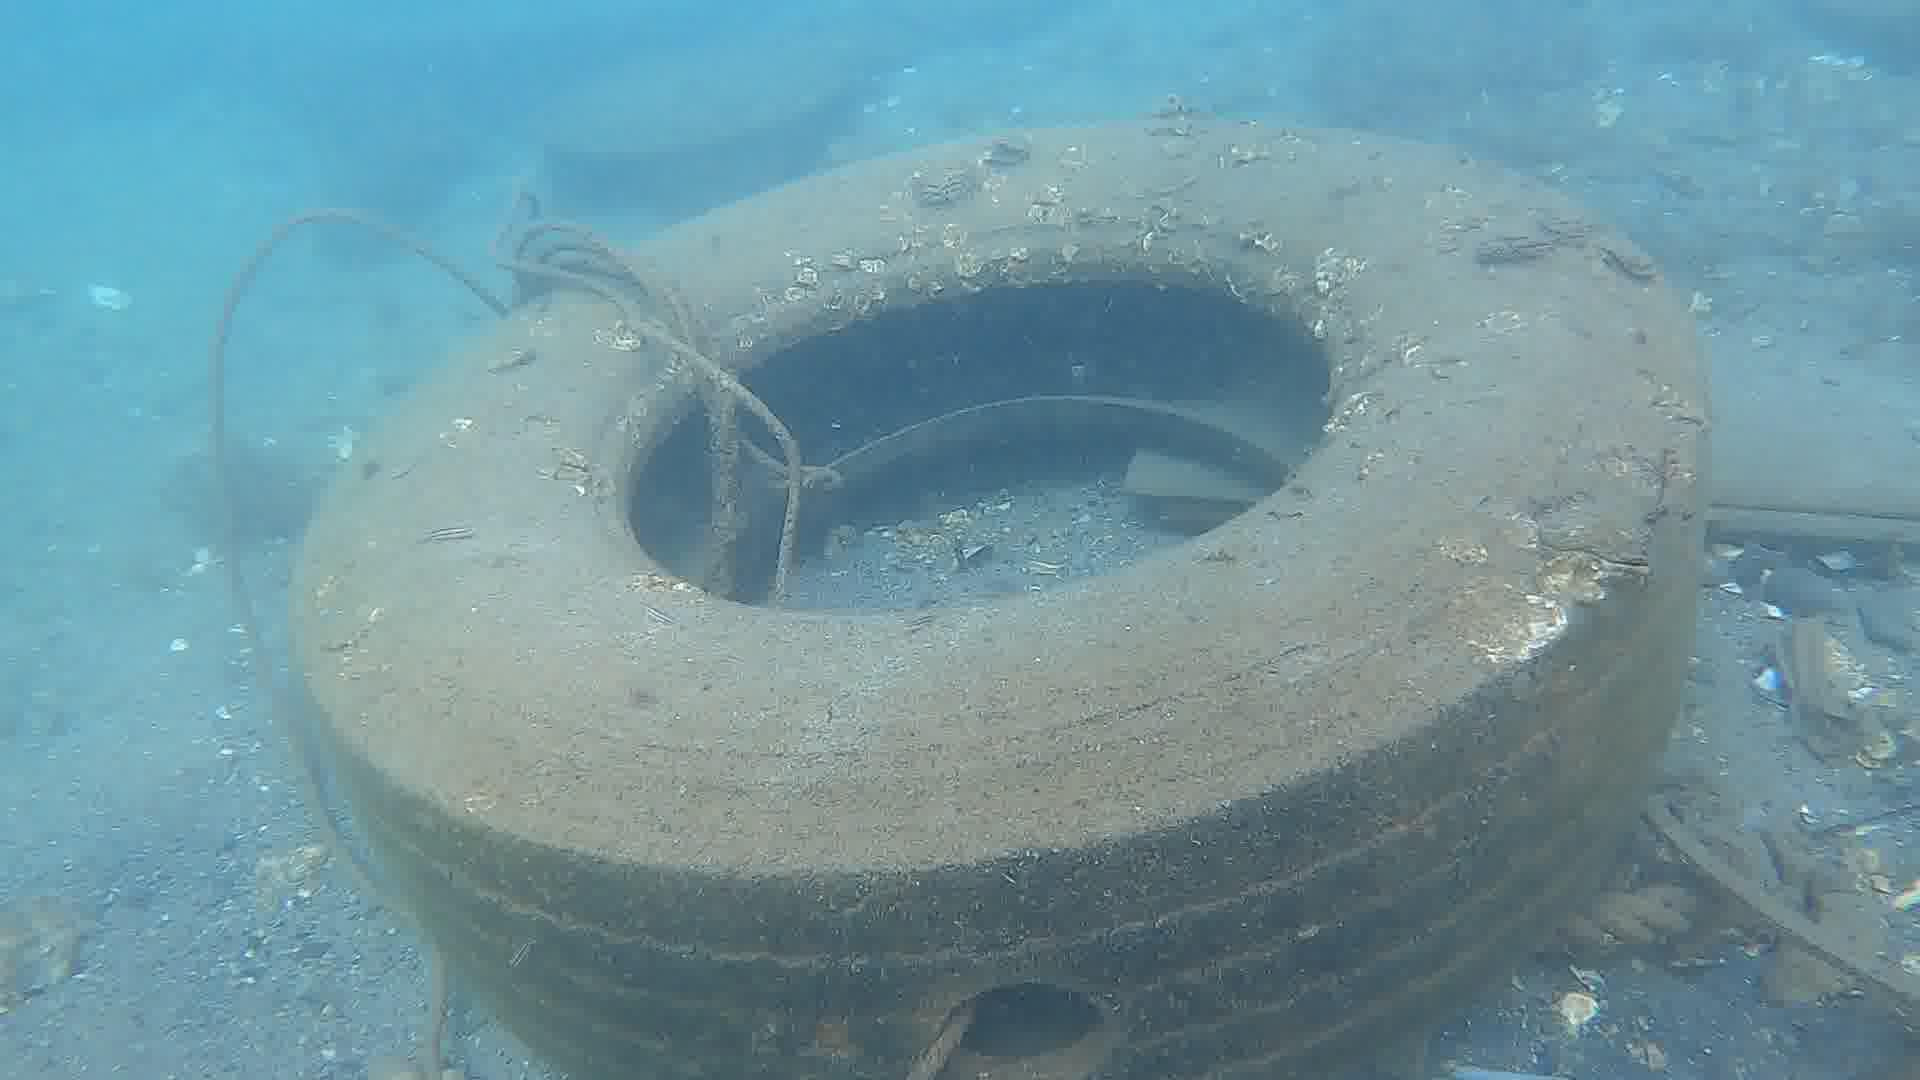rope: (204, 204, 510, 1080), (487, 189, 849, 611), (1539, 880, 1695, 957)
tire: (278, 115, 1712, 1080)
